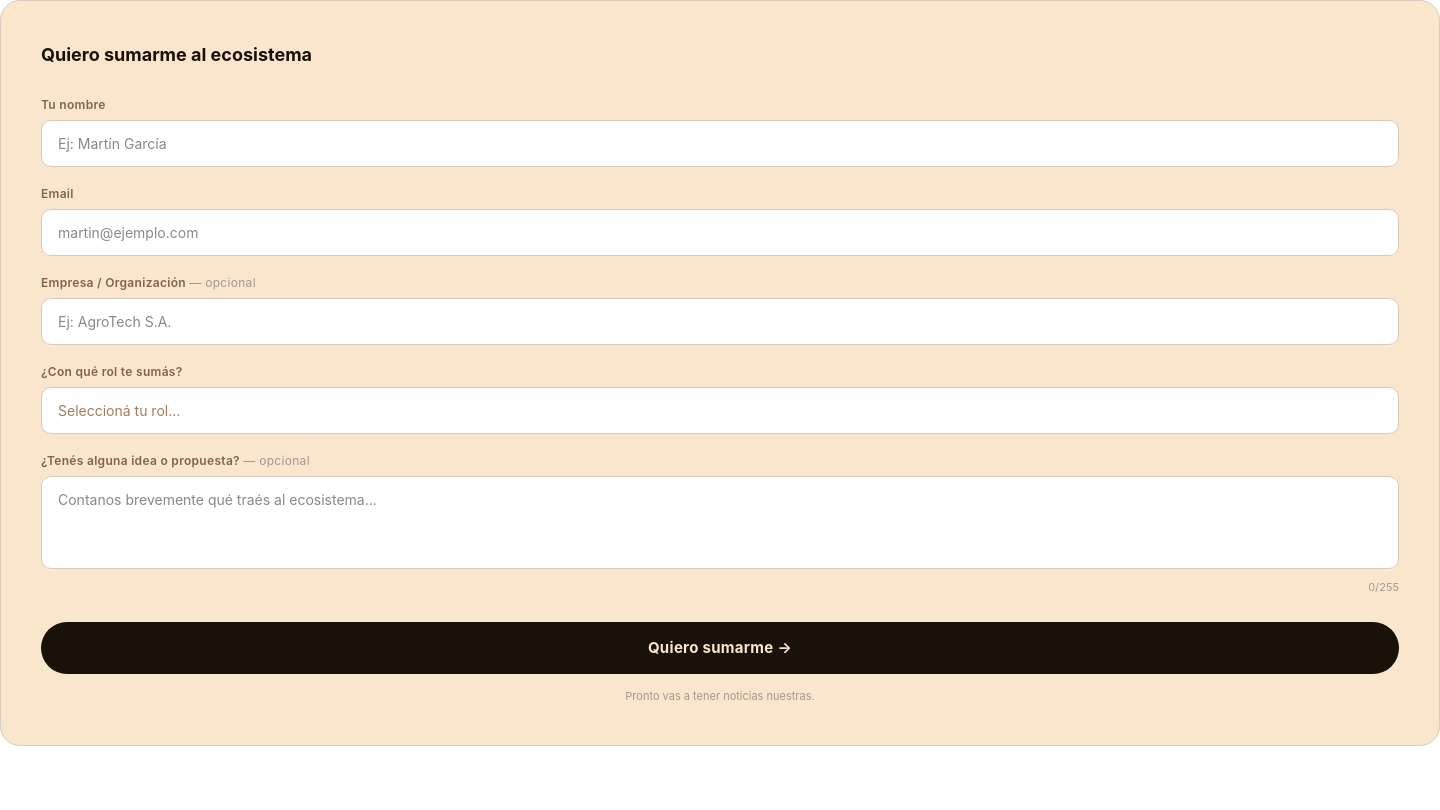
SumateForm › muestra el mensaje de éxito al submitear
The width and height of the screenshot is (1440, 810).
Type "Ana" into the field labelled "Tu nombre". click: (720, 144)
box: [41,120,1399,167]
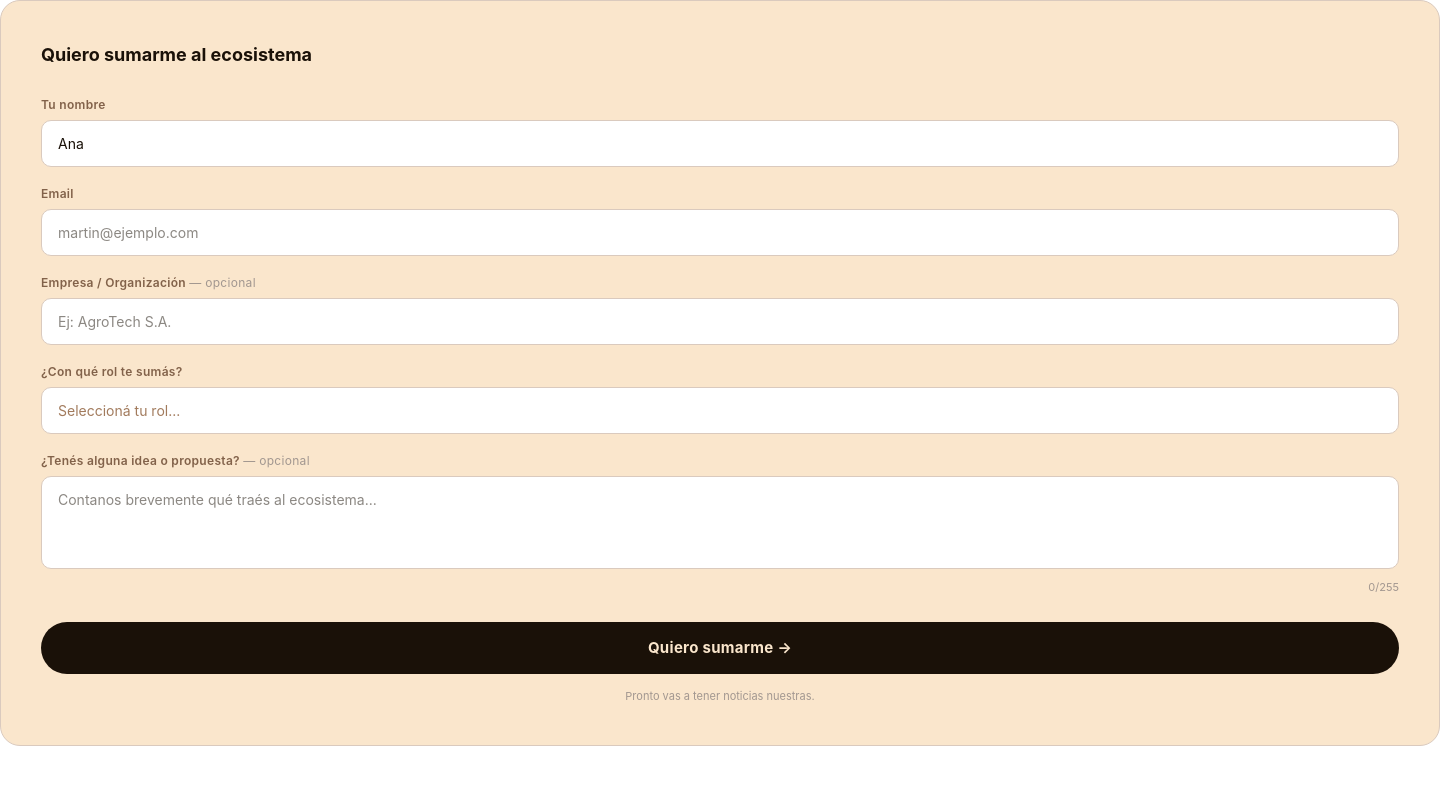
Type "ana@test.com" into the field labelled "Email". click: (720, 232)
box: [41,209,1399,256]
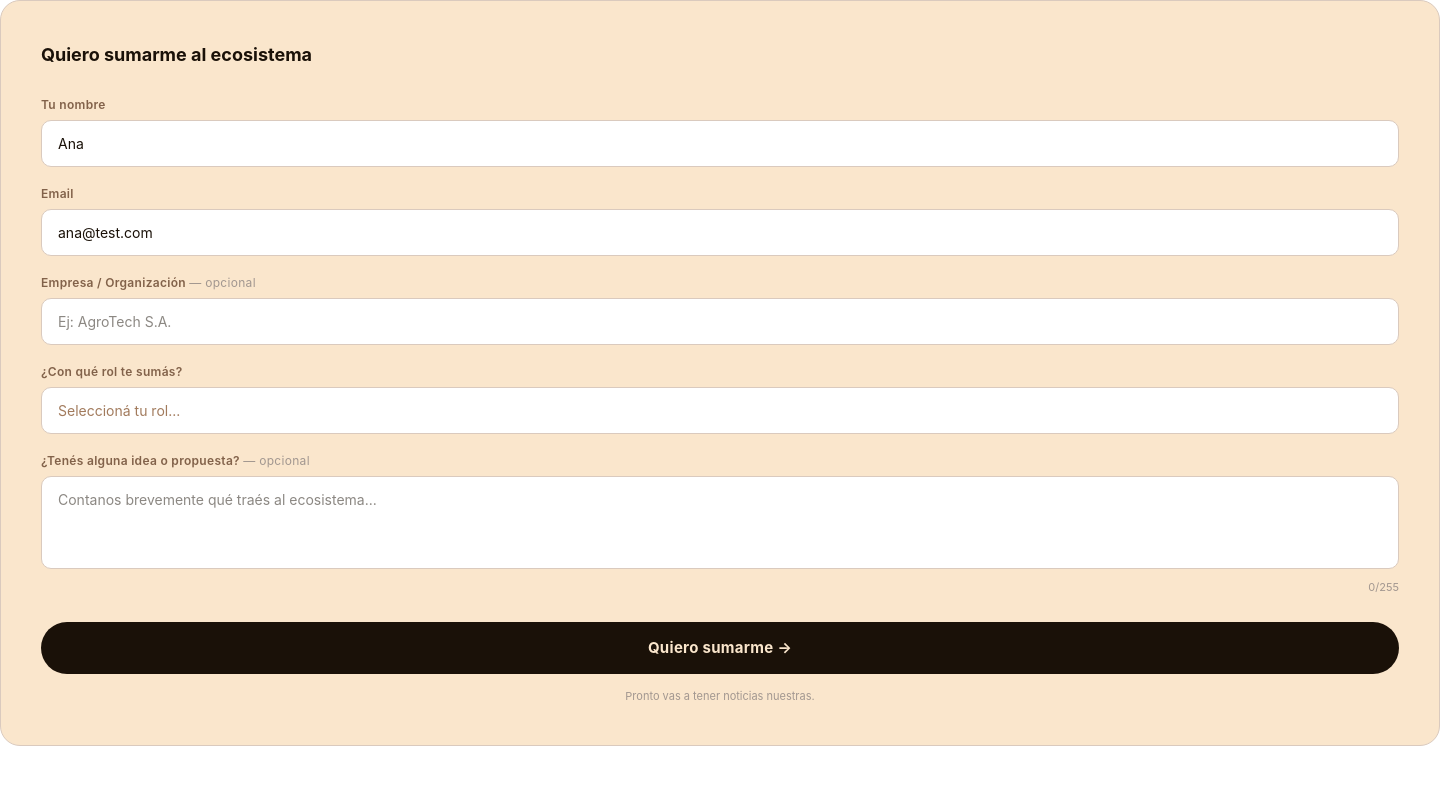
Select "Inversor" in the dropdown. click: (720, 410)
box: [41,387,1399,434]
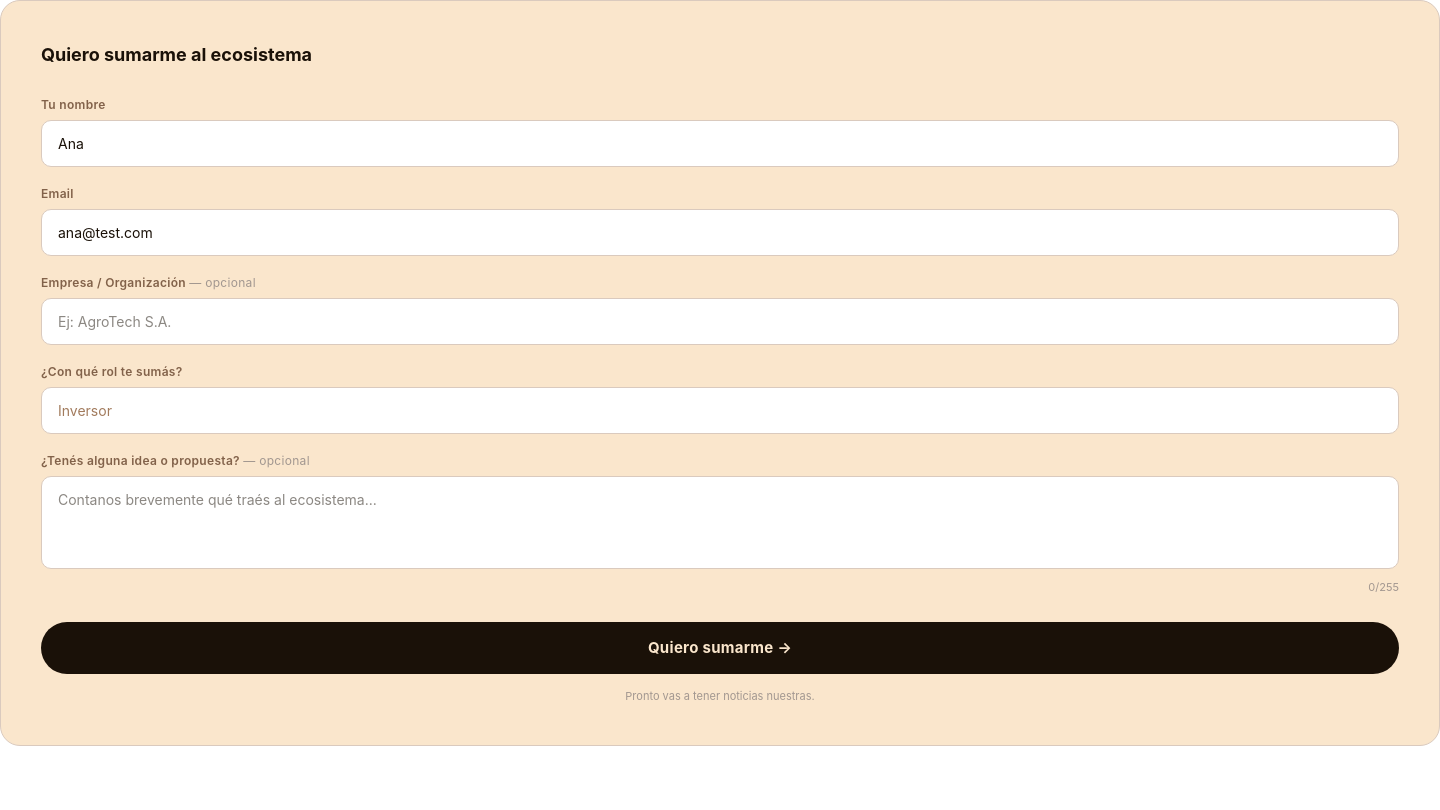
Click the button "Quiero sumarme →". click: click(720, 648)
box: [41,622,1399,674]
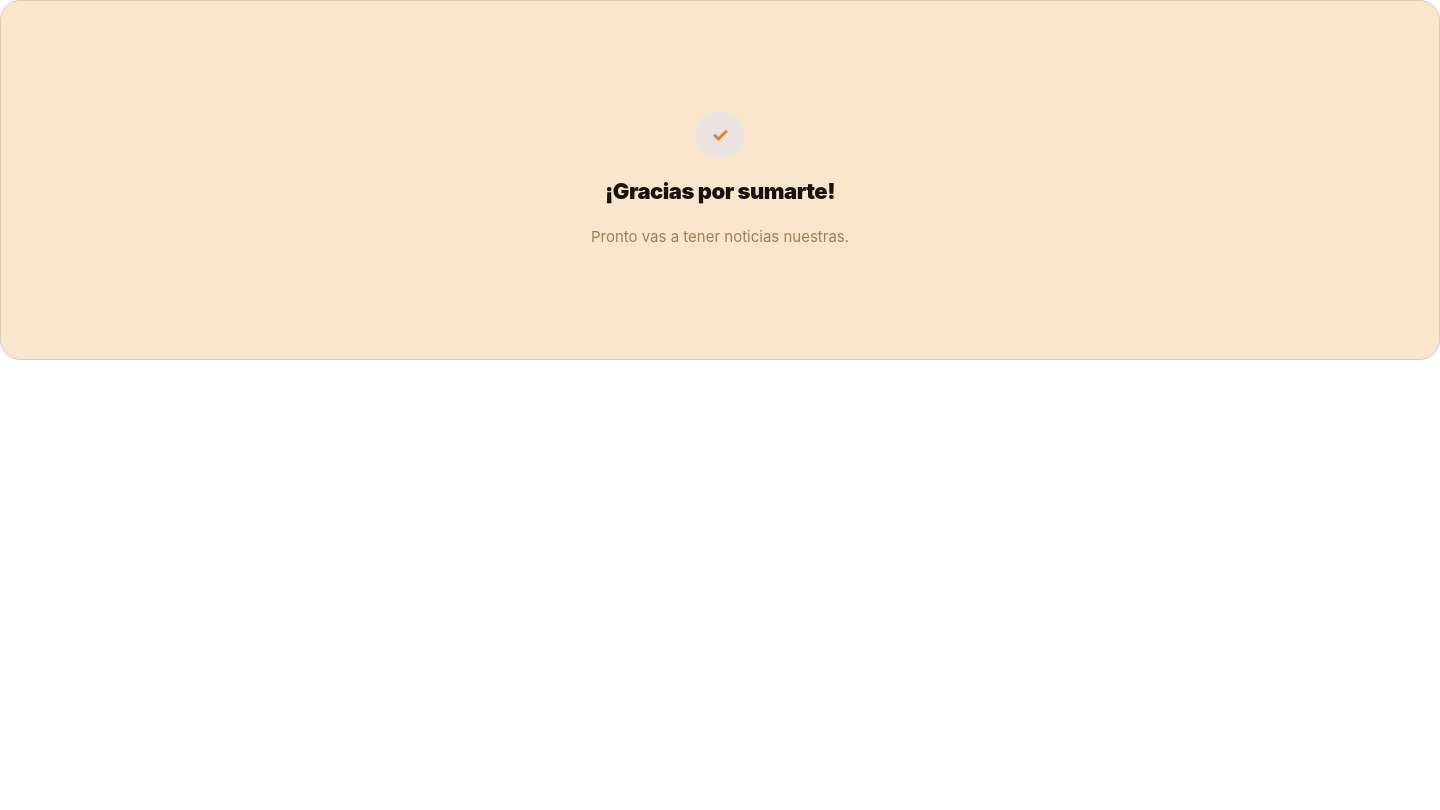
Expected: the text "Pronto vas a tener noticias nuestras." is shown, [591,224,849,249]
Expected: the text "Quiero sumarme" is gone
